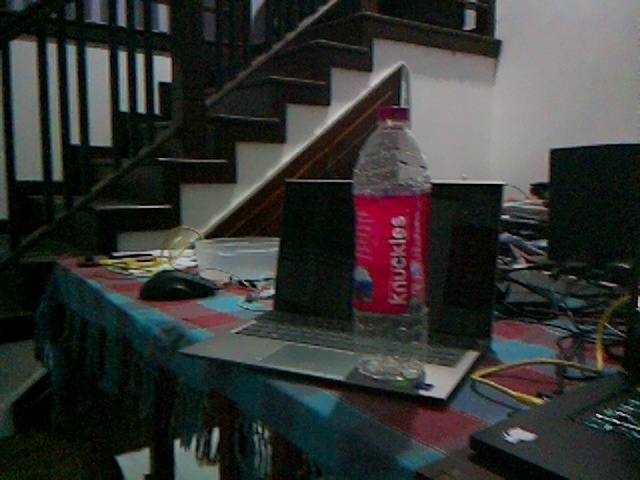bottle: (346, 104, 435, 384)
